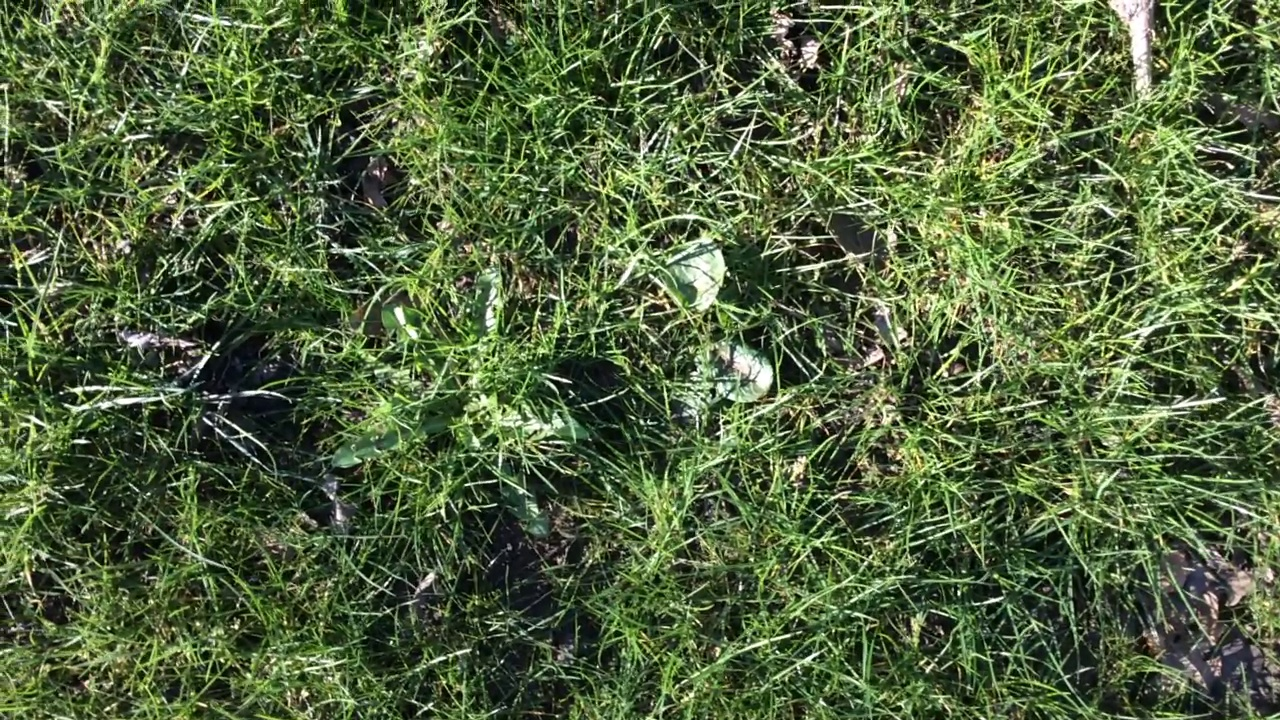rumex: (705, 347, 773, 404), (669, 241, 728, 306)
